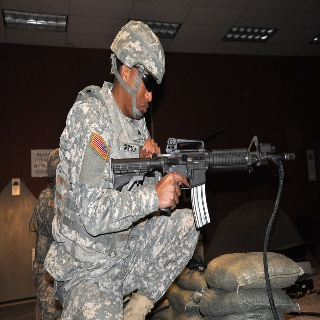rifle: (111, 136, 297, 230)
